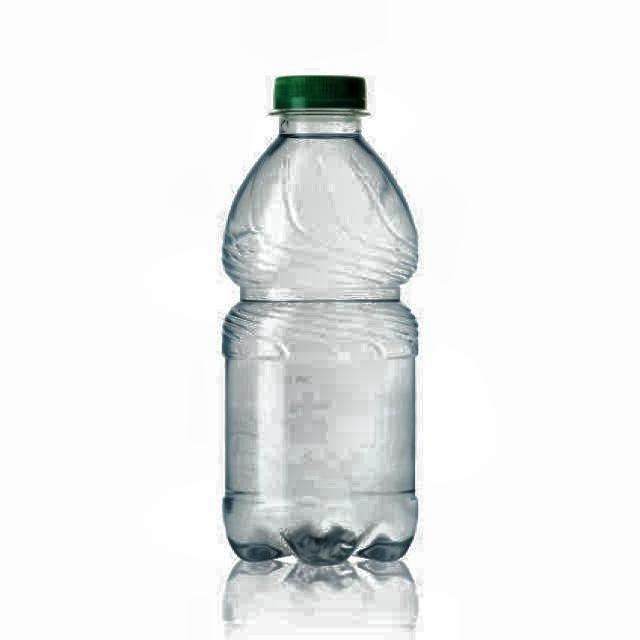plastic: (220, 75, 421, 579)
